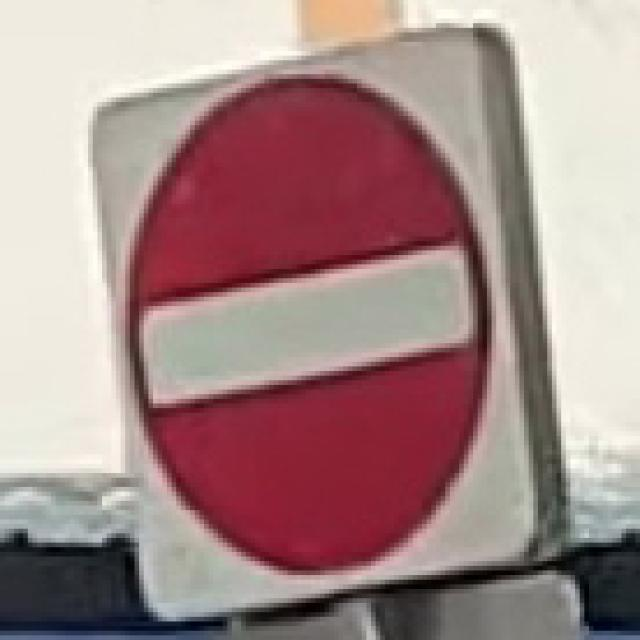noentry_sign: (79, 19, 575, 622)
